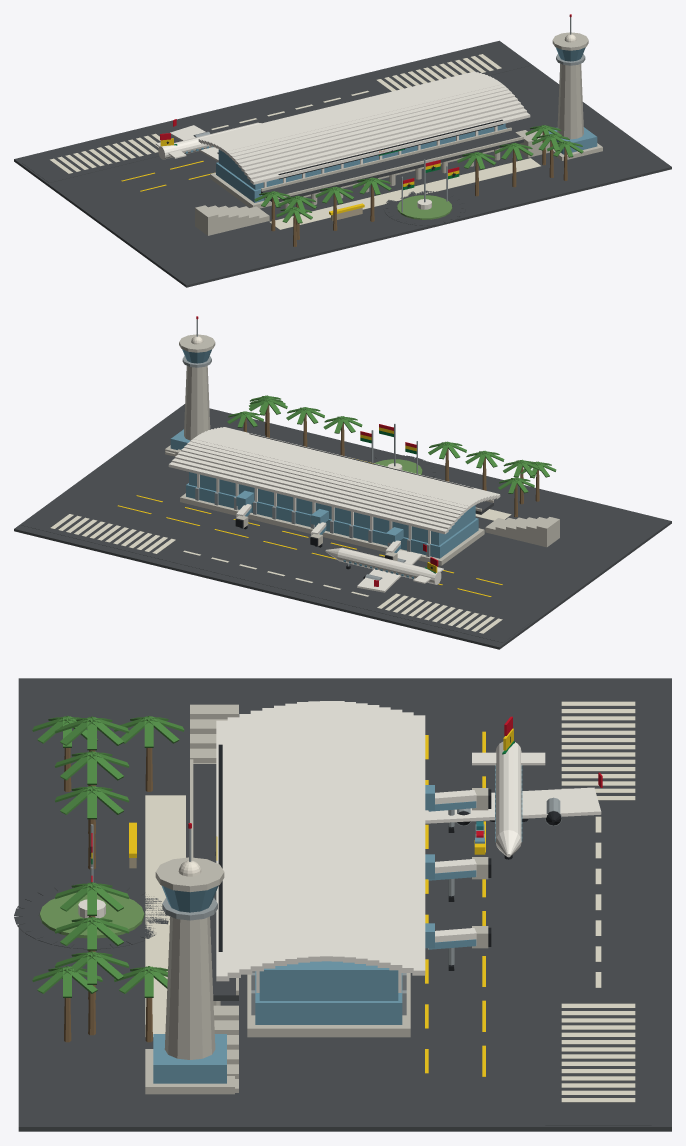
File: airport.glb
3 renders of one model, top to bottom at view 1: azimuth 30°, elevation 25°; view 2: azimuth 150°, elevation 25°; view 3: azimuth 270°, elevation 25°, orthographic. The views are drawn at different scales.
Parts seen in each view (by area): view 1: airport_asphalt, airport_white, airport_concrete, airport_lane, airport_leaf, airport_glass, airport_trunk, airport_grass, airport_black, airport_flag_gold, airport_steel; view 2: airport_asphalt, airport_white, airport_glass, airport_concrete, airport_lane, airport_leaf, airport_steel, airport_trunk, airport_flag_gold, airport_black; view 3: airport_asphalt, airport_white, airport_concrete, airport_lane, airport_glass, airport_leaf, airport_grass, airport_steel, airport_flag_gold, airport_trunk, airport_black.
Part boxes in pixels (x1,y1,x2,y2): airport_asphalt: [14, 40, 671, 287]; airport_white: [155, 71, 530, 187]; airport_concrete: [195, 32, 602, 235]; airport_lane: [50, 54, 540, 229]; airport_leaf: [254, 125, 583, 223]; airport_glass: [185, 47, 597, 202]; airport_trunk: [271, 131, 567, 246]; airport_grass: [397, 195, 452, 219]; airport_black: [166, 119, 503, 188]; airport_flag_gold: [121, 138, 459, 215]; airport_steel: [193, 17, 585, 212]; airport_asphalt: [14, 404, 671, 649]; airport_white: [168, 427, 500, 592]; airport_glass: [170, 349, 478, 578]; airport_concrete: [165, 334, 559, 565]; airport_lane: [50, 509, 511, 633]; airport_leaf: [227, 395, 556, 493]; airport_steel: [182, 319, 430, 580]; airport_trunk: [243, 404, 539, 517]; airport_flag_gold: [117, 427, 502, 596]; airport_black: [235, 433, 473, 578]; airport_asphalt: [14, 678, 671, 1131]; airport_white: [216, 701, 601, 992]; airport_concrete: [145, 704, 488, 1094]; airport_lane: [145, 701, 635, 1102]; airport_glass: [153, 765, 522, 1083]; airport_leaf: [32, 715, 184, 997]; airport_grass: [39, 892, 144, 938]; airport_steel: [90, 797, 561, 1015]; airport_flag_gold: [91, 728, 513, 1076]; airport_trunk: [64, 748, 152, 1042]; airport_black: [90, 736, 561, 970].
Size of the model in its own units: 260 by 69.2 by 161.
